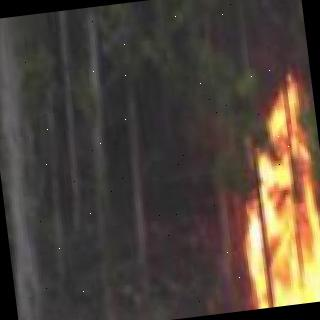fire: (158, 78, 320, 318)
